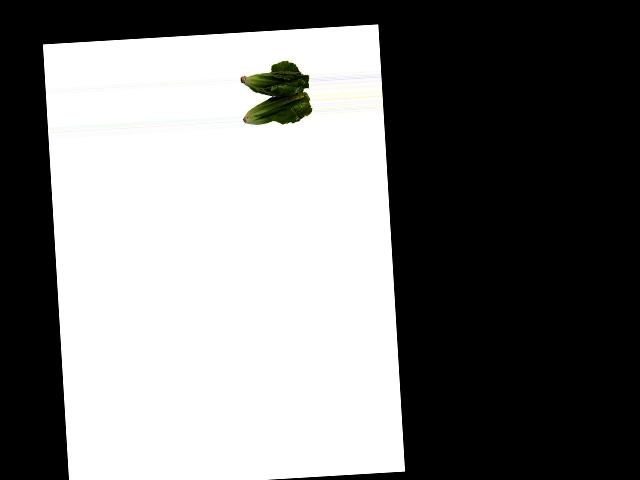lettuce: (239, 66, 312, 129)
